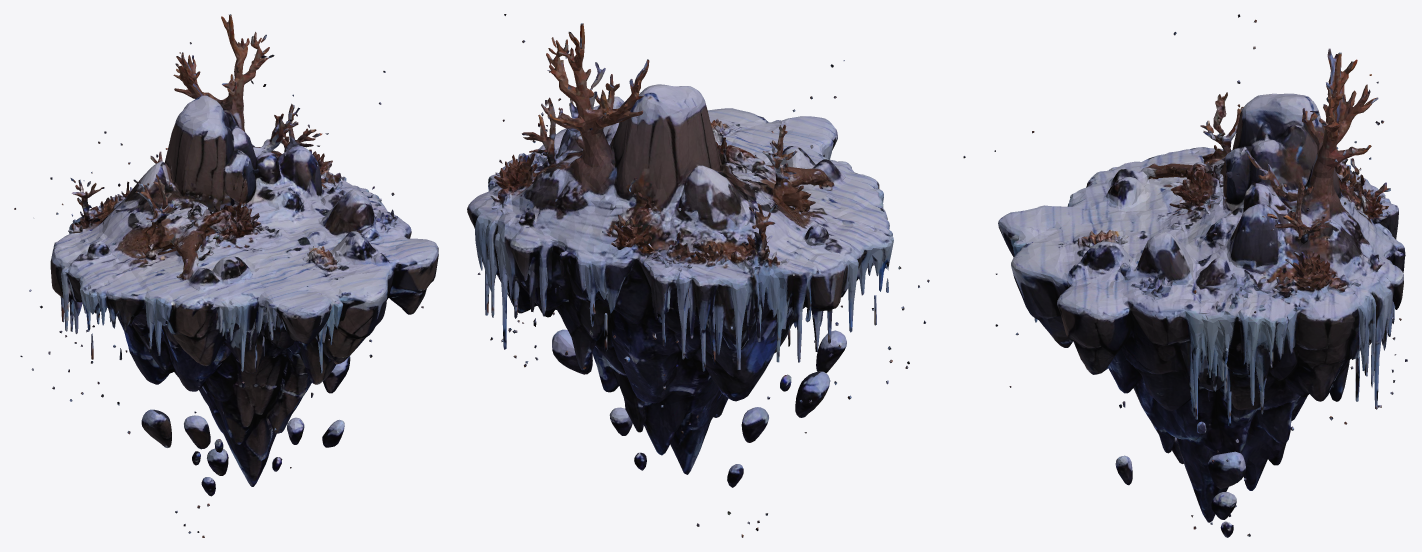
The model's file is snow-sky-island-2.glb.
3 renders of one model, left to right at view 1: azimuth 30°, elevation 25°; view 2: azimuth 150°, elevation 25°; view 3: azimuth 270°, elevation 25°, orthographic. The views are drawn at different scales.
Visible parts, largest first — view 1: textured_mesh.obj; view 2: textured_mesh.obj; view 3: textured_mesh.obj.
Boxes of the visible parts, left/top/right/bottom form: textured_mesh.obj: left=14, top=14, right=438, bottom=537; textured_mesh.obj: left=467, top=14, right=965, bottom=537; textured_mesh.obj: left=994, top=14, right=1407, bottom=537.
Size of the model in its own units: 1.74 by 1.99 by 1.41.
1 material, 1 textured.
